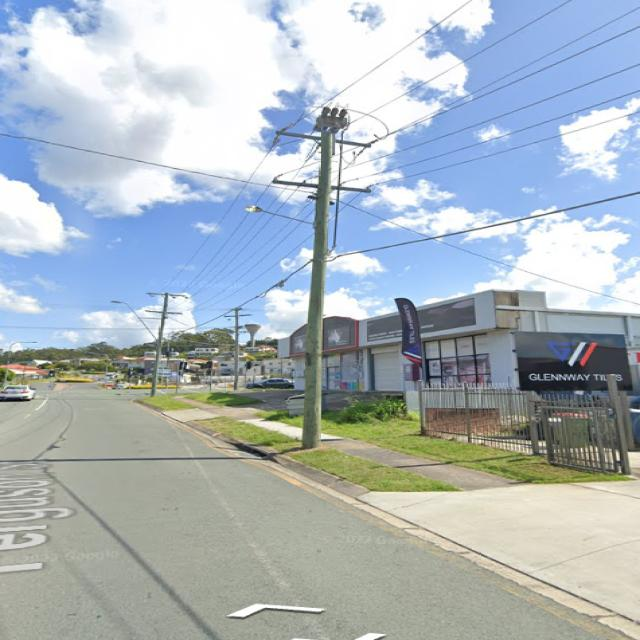HV-switch: (312, 106, 350, 134)
HV-transmission: (271, 124, 381, 157), (225, 314, 252, 334), (146, 292, 189, 300)
crossarm: (275, 130, 372, 148), (272, 180, 371, 193), (145, 310, 183, 315), (146, 292, 186, 296), (224, 314, 252, 318), (229, 331, 250, 333)
steel-pole: (4, 346, 11, 388)
streetlight: (110, 301, 162, 343), (243, 205, 314, 225), (11, 341, 38, 347)
timber-pole: (300, 131, 335, 449), (150, 292, 168, 397), (233, 308, 239, 390)
